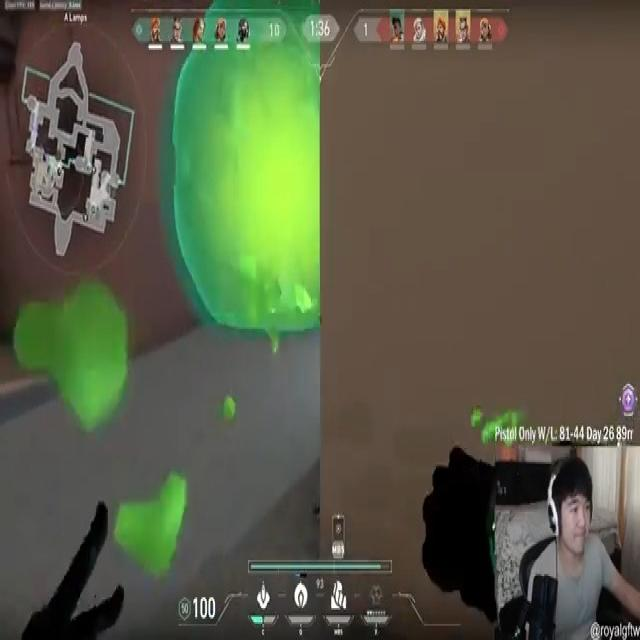smoke: (172, 4, 322, 335)
